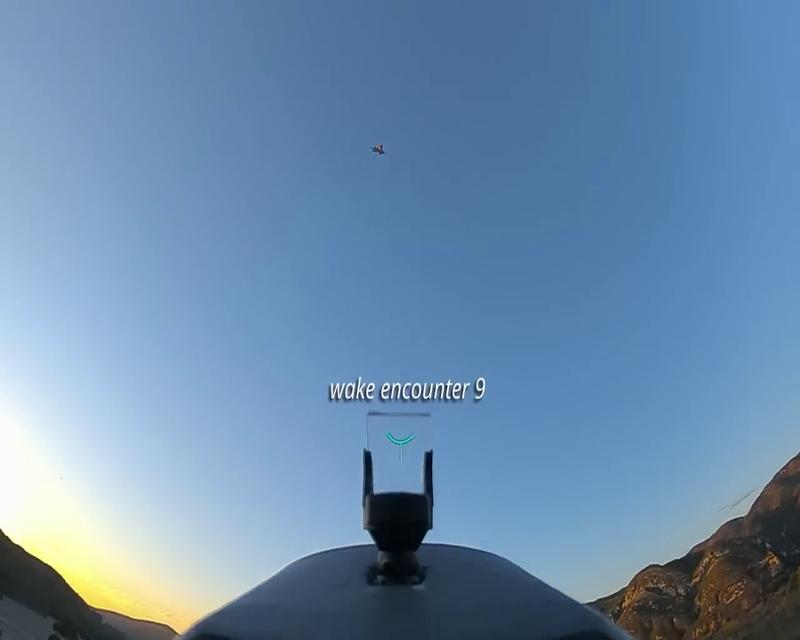UAV: (370, 142, 387, 156)
